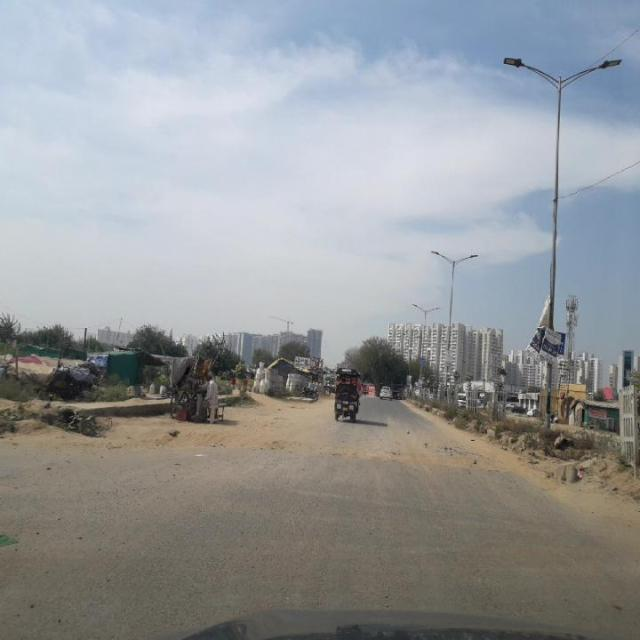Surface Erosion: (139, 355, 552, 640)
